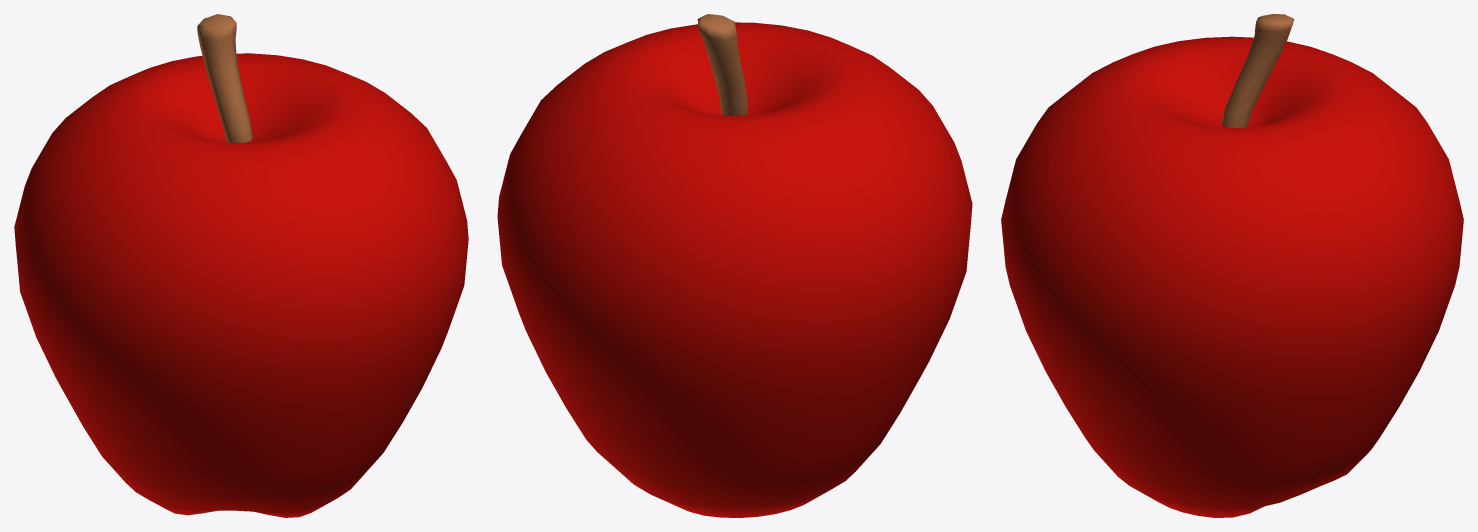
The model's file is Apple.fbx.
3 renders of one model, left to right at view 1: azimuth 30°, elevation 25°; view 2: azimuth 150°, elevation 25°; view 3: azimuth 270°, elevation 25°, orthographic. The views are drawn at different scales.
Parts seen in each view (by area): view 1: Apple1; view 2: Apple1; view 3: Apple1.
Part boxes in pixels (x1,y1,x2,y2): Apple1: (14,14,468,517); Apple1: (497,14,972,517); Apple1: (1001,14,1463,517).
Size of the model in its own units: 0.7141 by 0.7888 by 0.7141.
